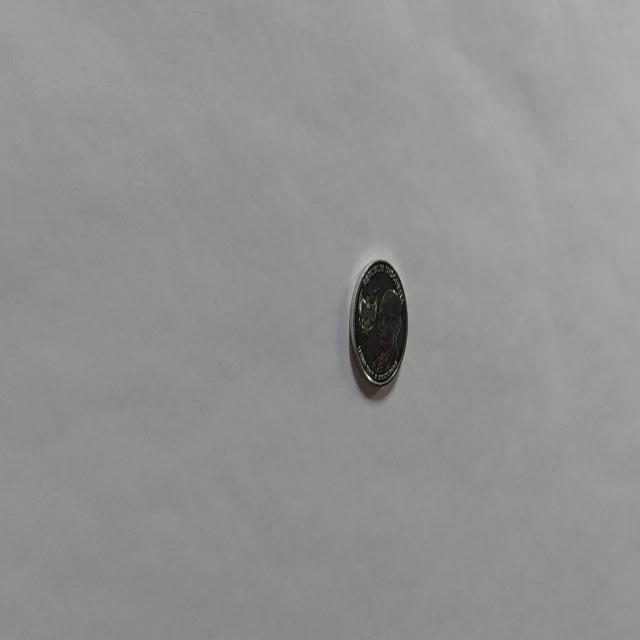lima ratus rupiah: (348, 258, 408, 390)
